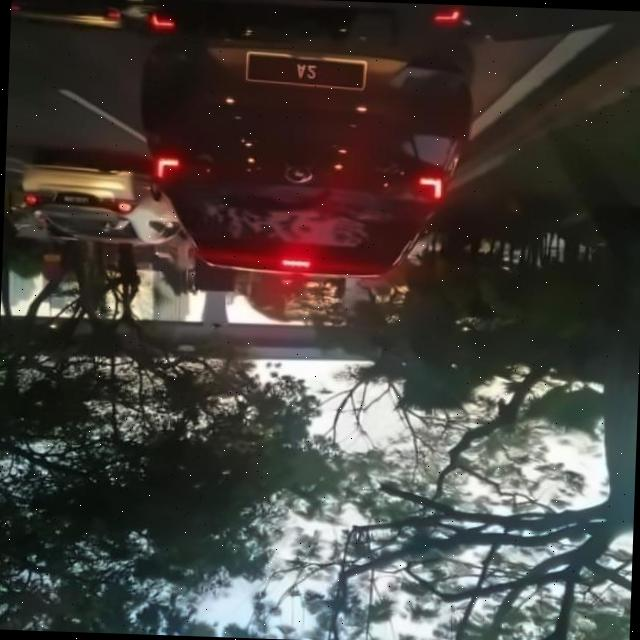License_Plate: (243, 51, 369, 95), (54, 188, 105, 209)
car: (131, 1, 477, 296)
